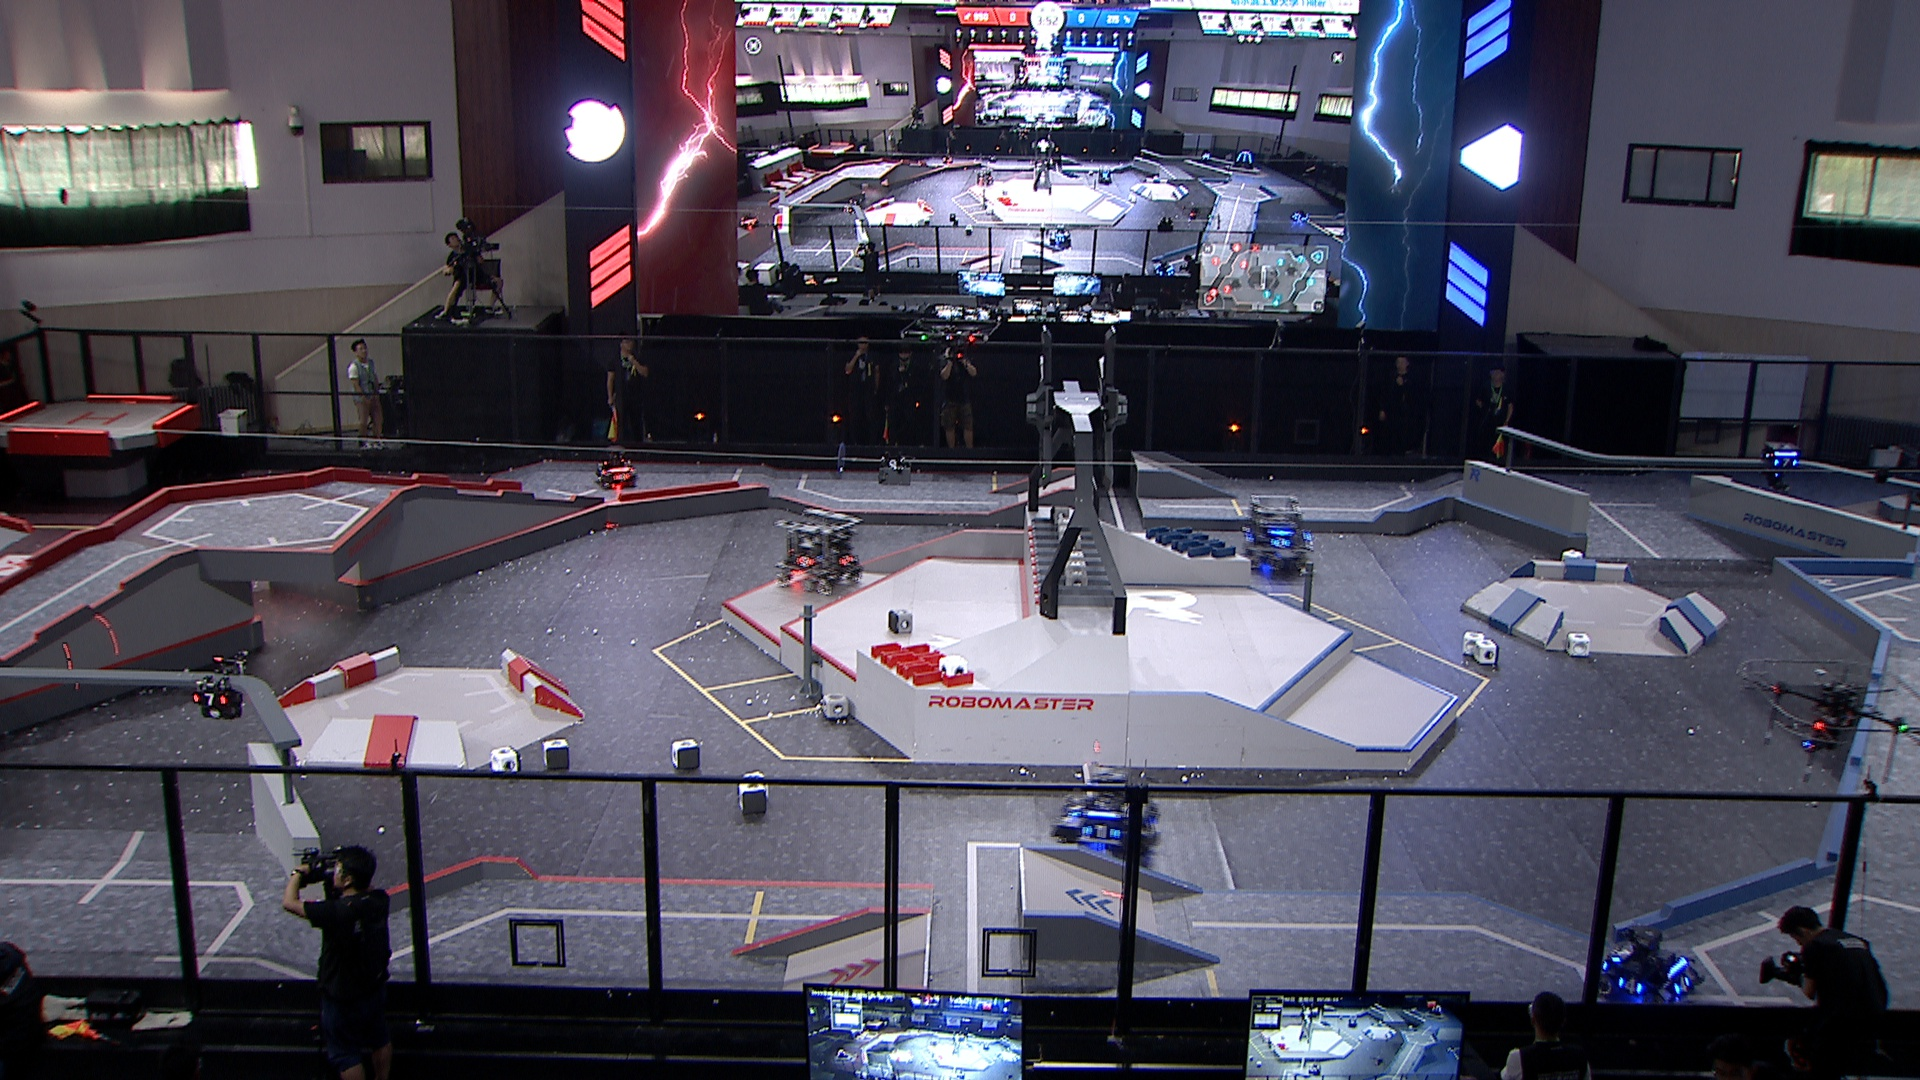armor: (1083, 823, 1124, 844), (190, 690, 229, 708), (1615, 975, 1644, 997), (1609, 948, 1633, 965), (1673, 975, 1692, 994), (1271, 535, 1292, 553), (1774, 458, 1799, 469), (839, 553, 856, 570), (1067, 803, 1083, 822), (795, 555, 814, 570), (612, 471, 632, 483)
car: (1048, 765, 1159, 858), (1594, 927, 1702, 1007), (773, 508, 864, 593), (1240, 493, 1313, 578), (597, 447, 637, 491)
ignore: (1046, 225, 1076, 249), (1233, 149, 1255, 171), (1153, 258, 1178, 276), (975, 167, 994, 187), (738, 211, 760, 229), (1097, 167, 1112, 186), (1292, 210, 1309, 223), (844, 200, 858, 215), (1200, 153, 1212, 166)
watcher: (189, 655, 248, 721), (1760, 440, 1803, 488)
